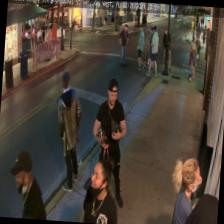person: (88, 74, 131, 207), (50, 71, 85, 189), (8, 148, 51, 219), (82, 154, 120, 224), (169, 155, 203, 224)
